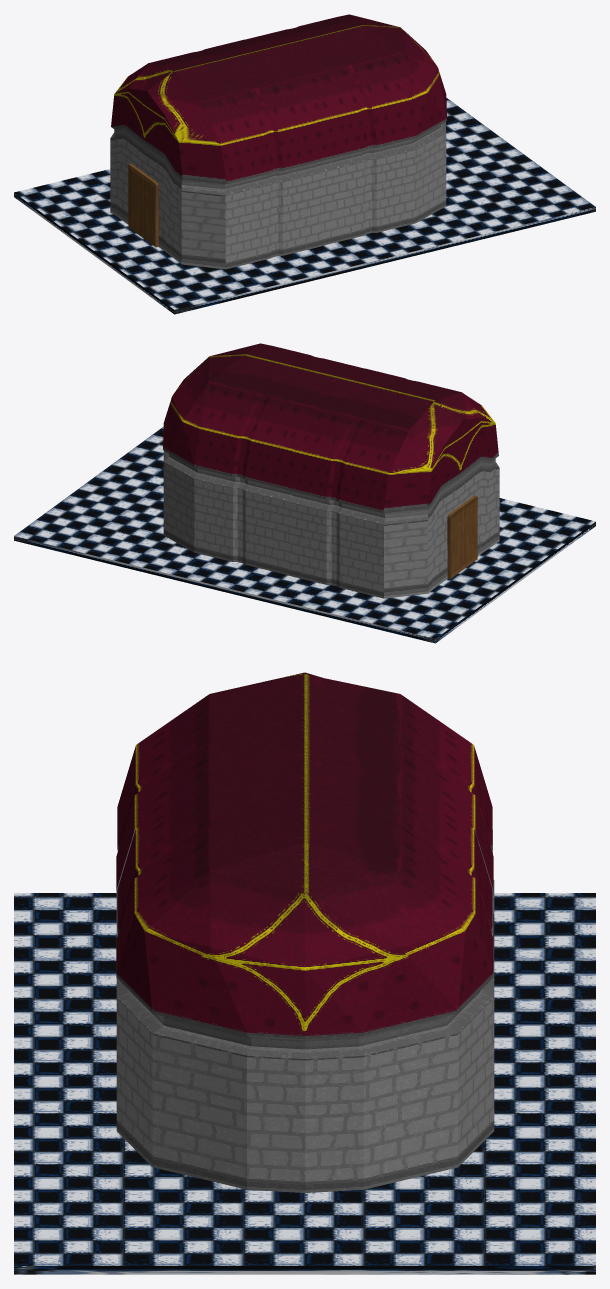
The model's file is manor_frame.fbx.
3 views of the same model, one above another, from view 1: azimuth 30°, elevation 25°; view 2: azimuth 150°, elevation 25°; view 3: azimuth 270°, elevation 25° (orthographic). The views are drawn at different scales.
Parts seen in each view (by area): view 1: Cube.014; view 2: Cube.014; view 3: Cube.014.
Part boxes in pixels (box(x1,y1,x2,y2)): Cube.014: box(14, 14, 595, 314); Cube.014: box(14, 343, 595, 643); Cube.014: box(14, 672, 595, 1274).
Bounding box in the file's own units: 8081 × 3017 × 5329.
